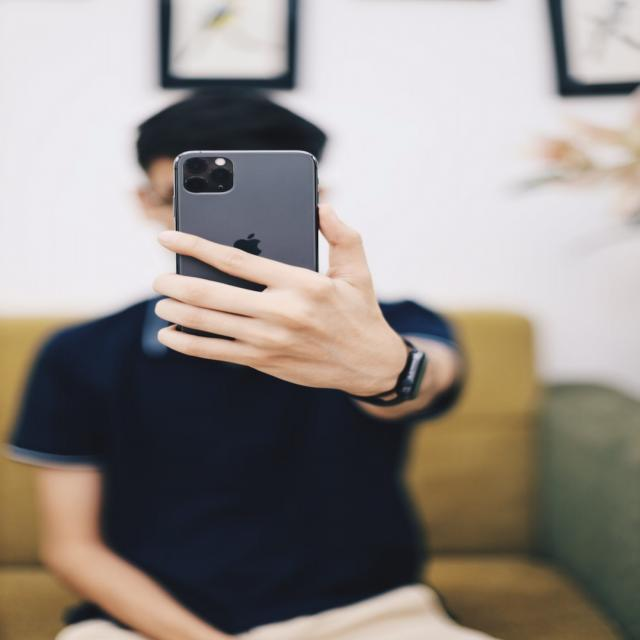phone: (174, 151, 318, 351)
